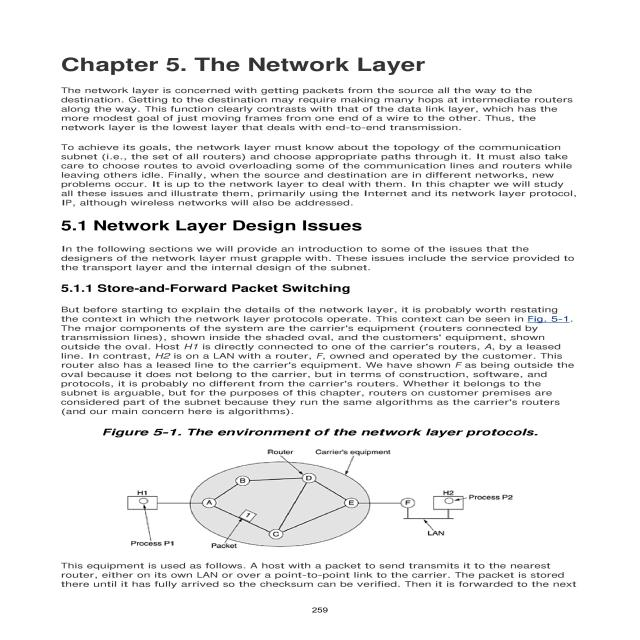diagram: (31, 421, 586, 554)
